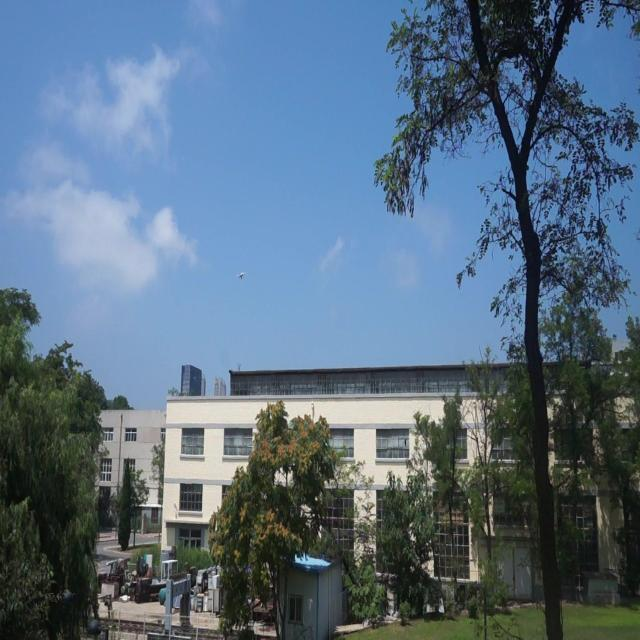drone: (235, 267, 246, 284)
